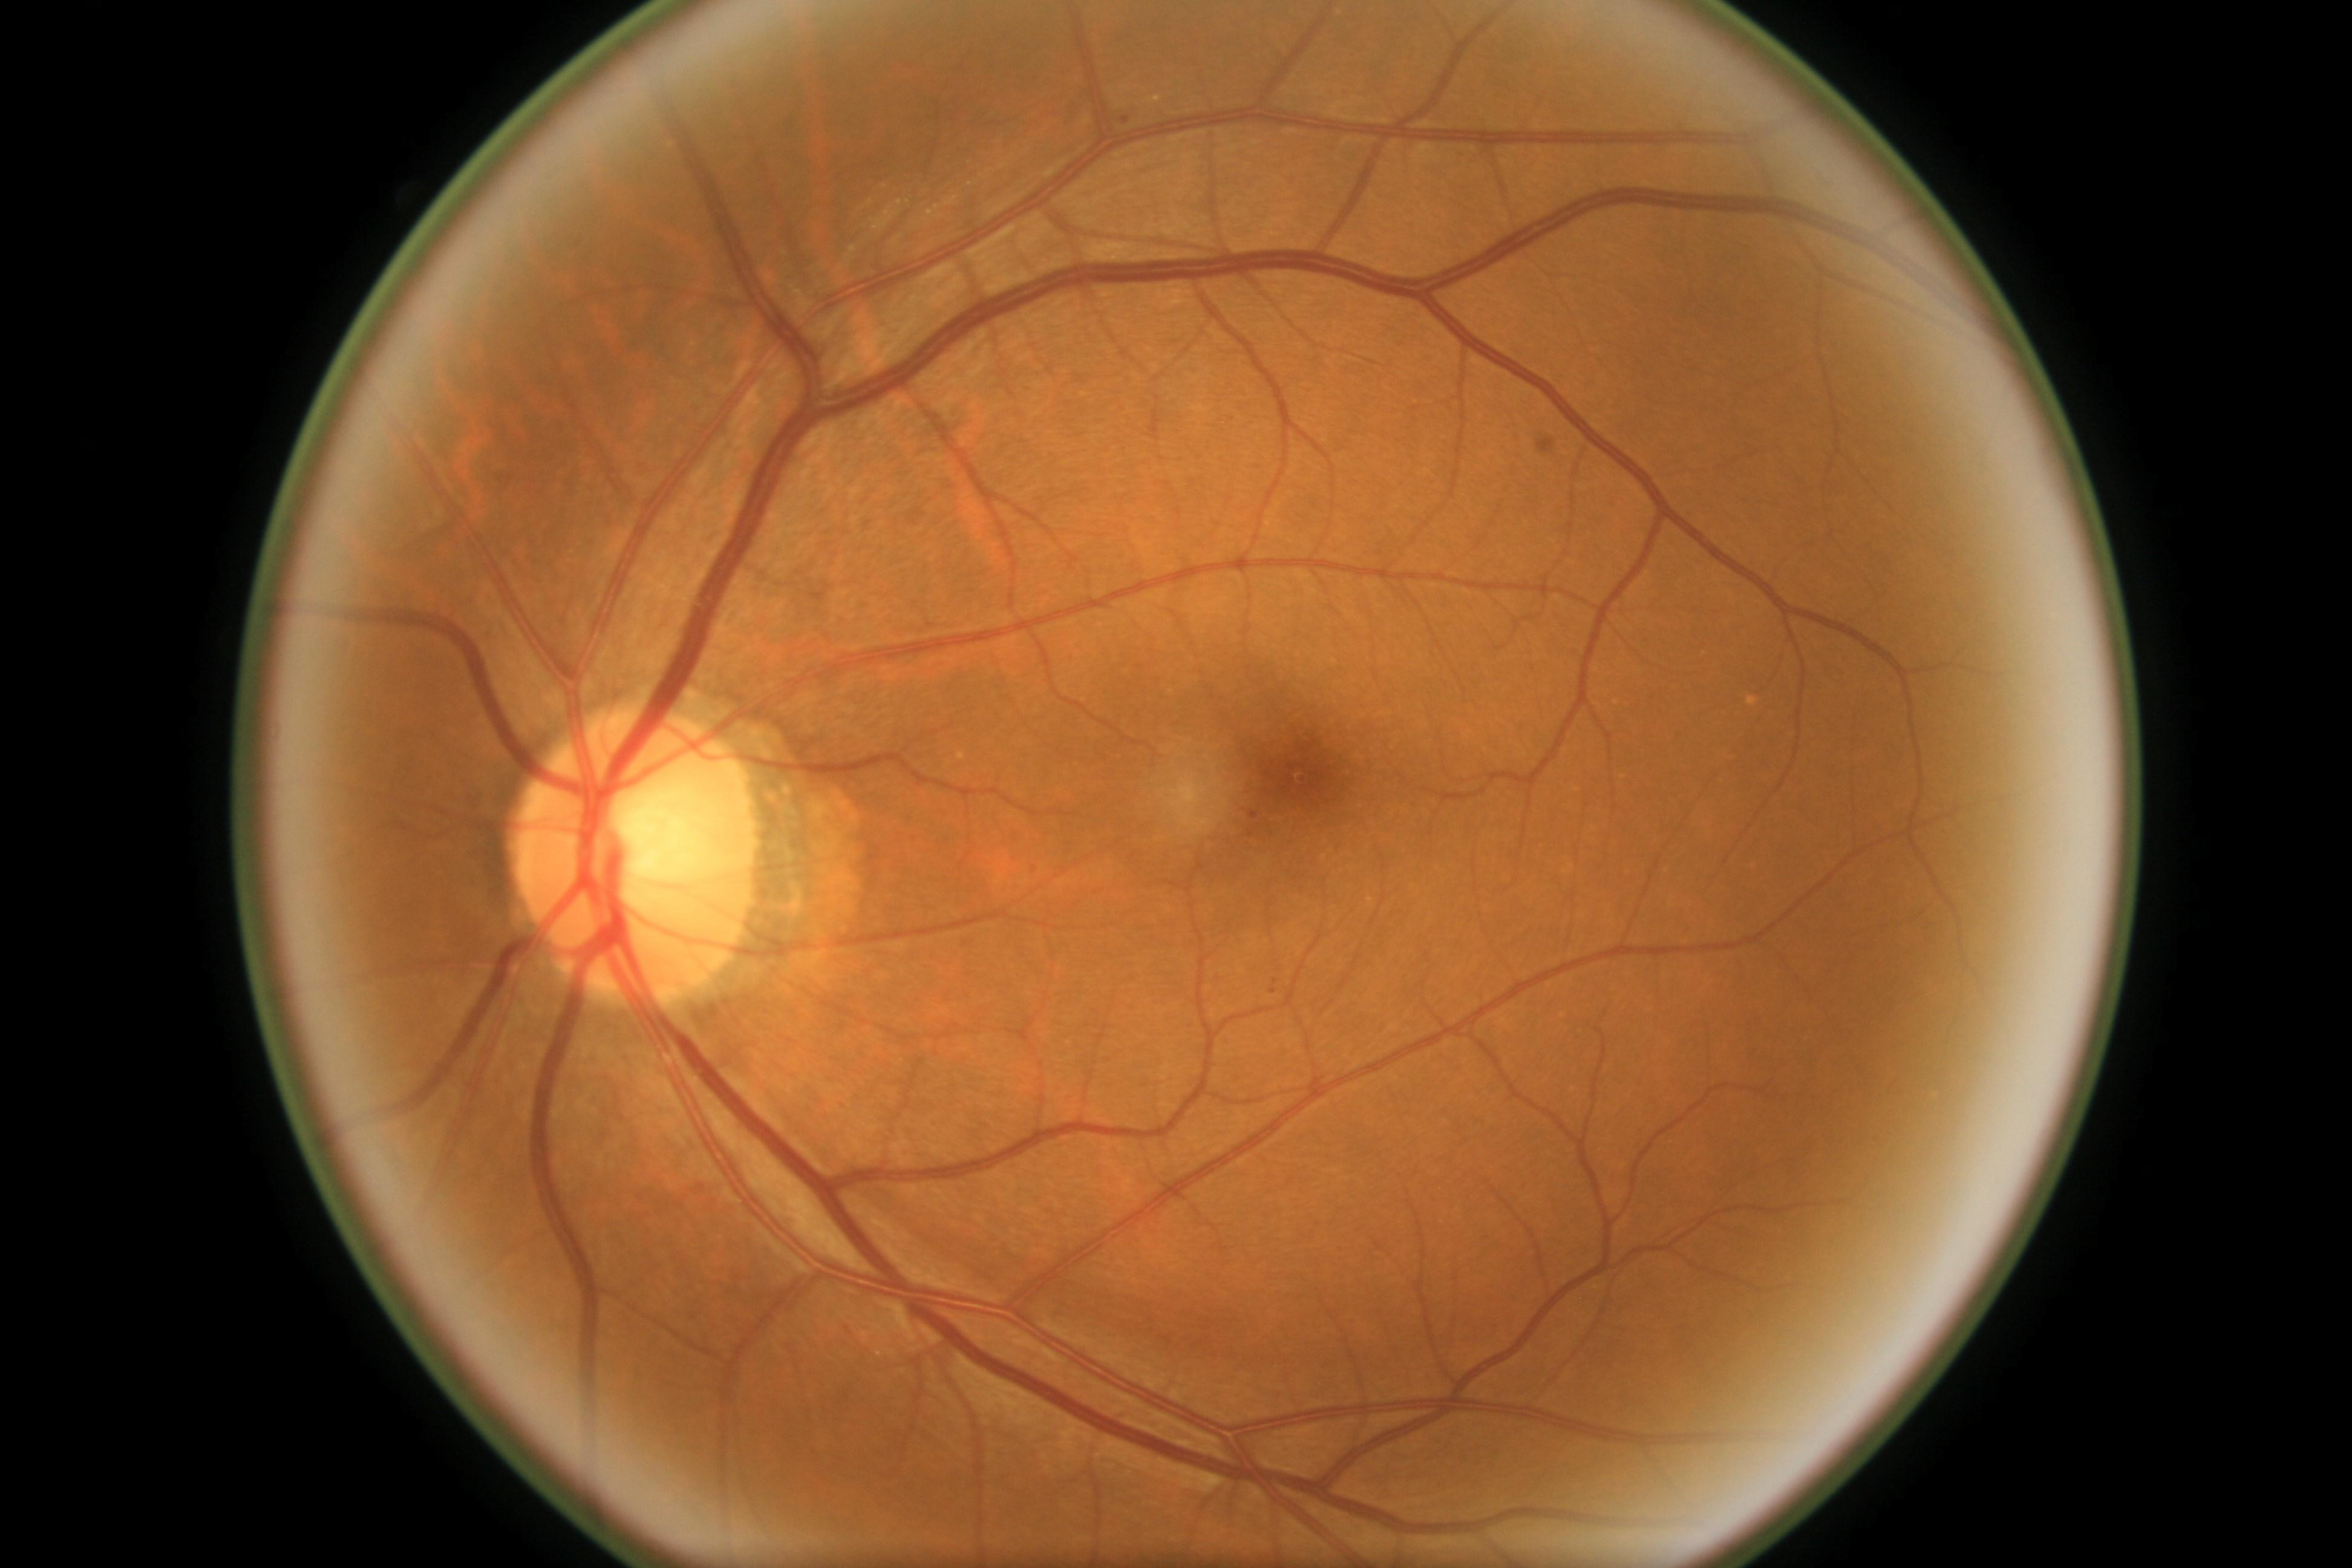Optic-nerve: (478, 696, 791, 1001)
macula: (1099, 634, 1472, 952)
